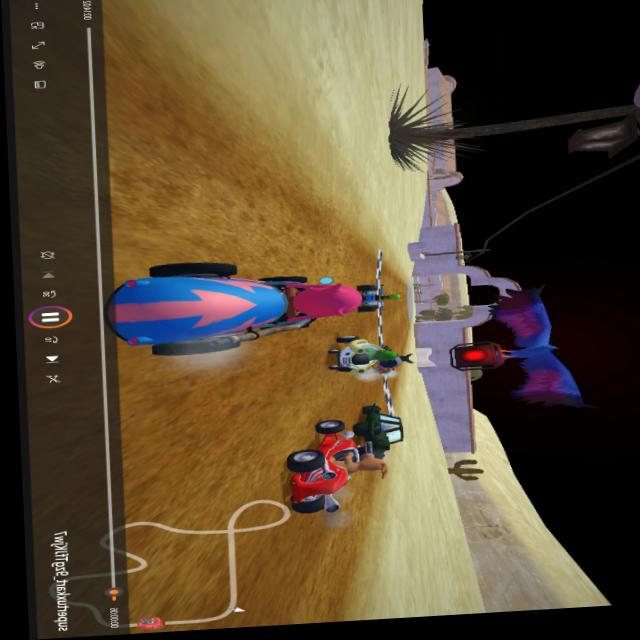enemy_kart: (275, 417, 385, 525), (309, 330, 406, 388)
player_kart: (111, 245, 357, 364)
